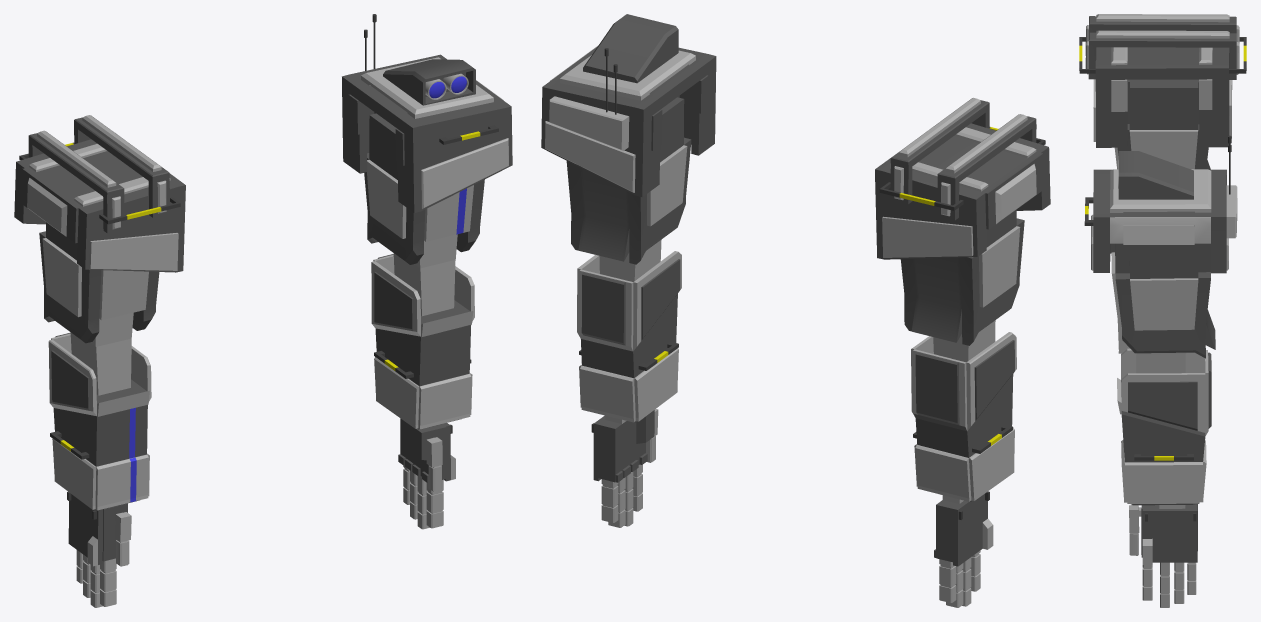
File: Dash_MISCU_Arms_Test.fbx
3 renders of one model, left to right at view 1: azimuth 30°, elevation 25°; view 2: azimuth 150°, elevation 25°; view 3: azimuth 270°, elevation 25°, orthographic. The views are drawn at different scales.
Visible parts, largest first — view 1: UpperRightArm, LeftShoulder1, LoweRightArm, LowerLeftHand, RightHand, LeftHand; view 2: LeftShoulder1, UpperRightArm, LoweRightArm, LowerLeftHand, LeftHand, RightHand; view 3: LeftShoulder1, UpperRightArm, LowerLeftHand, LeftHand.
Part boxes in pixels (left/top/right/bottom): UpperRightArm: left=14, top=115, right=185, bottom=346; LeftShoulder1: left=342, top=14, right=512, bottom=268; LoweRightArm: left=48, top=332, right=151, bottom=510; LowerLeftHand: left=371, top=253, right=474, bottom=429; RightHand: left=67, top=491, right=131, bottom=607; LeftHand: left=398, top=418, right=455, bottom=529; LeftShoulder1: left=541, top=14, right=716, bottom=264; UpperRightArm: left=875, top=97, right=1050, bottom=345; LoweRightArm: left=911, top=320, right=1016, bottom=501; LowerLeftHand: left=577, top=239, right=681, bottom=422; LeftHand: left=591, top=409, right=658, bottom=527; RightHand: left=934, top=491, right=993, bottom=607; LeftShoulder1: left=1084, top=135, right=1237, bottom=358; UpperRightArm: left=1079, top=14, right=1246, bottom=169; LowerLeftHand: left=1117, top=348, right=1211, bottom=505; LeftHand: left=1129, top=504, right=1197, bottom=607.
Bounding box in the file's own units: 6.13 × 6.58 × 2.16.
